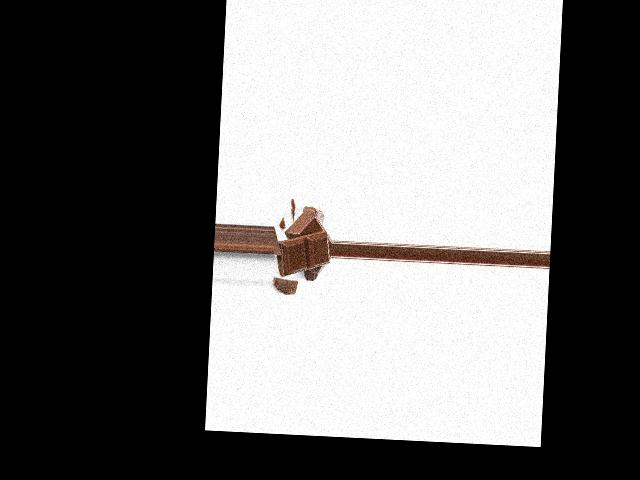chocolate: (277, 228, 329, 277)
